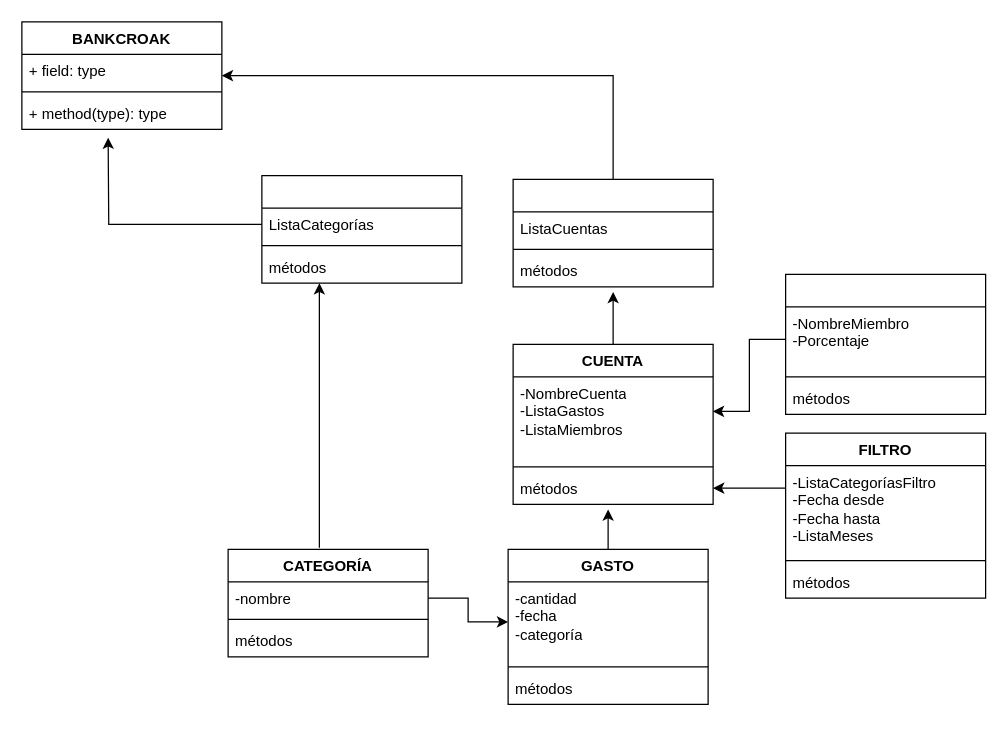
Image size: 1008x730. Some labels were removed from this diagram. Each missing label, with the box of its shape:
Miembro Cuenta: (784, 273, 986, 414)
Repositorio de Categorías: (261, 174, 462, 283)
Repositorio de Cuentas: (512, 178, 713, 287)
